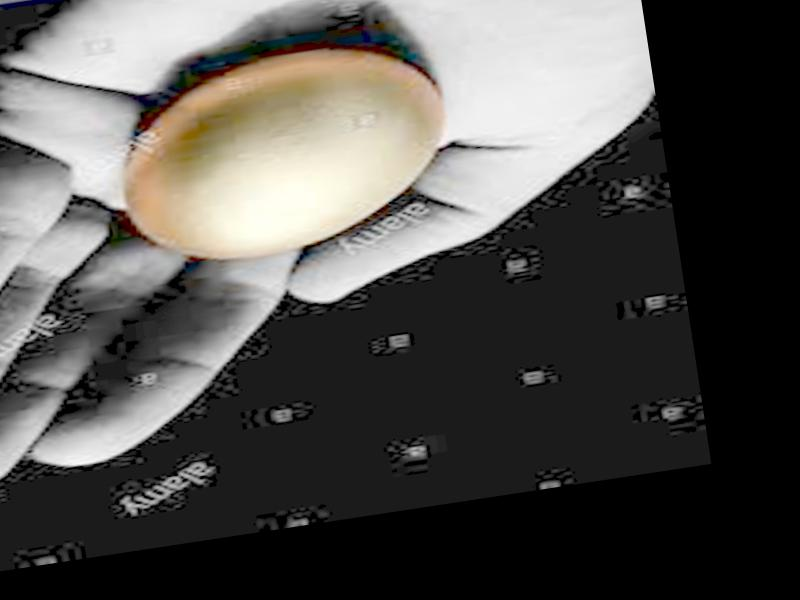Eggs: (106, 37, 457, 274)
